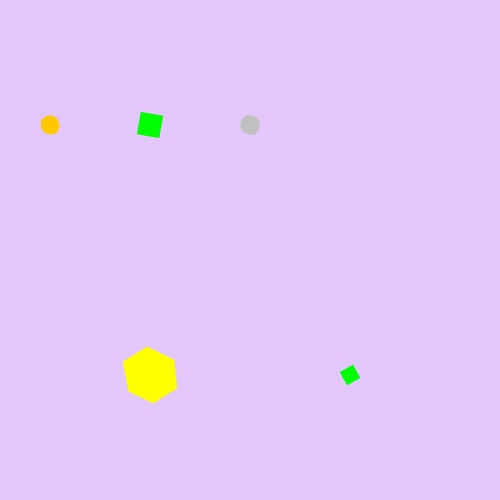decagon: (235, 111, 265, 139)
hexagon: (117, 348, 184, 403)
nonagon: (36, 111, 65, 139)
quadrilateral: (131, 106, 170, 145), (335, 360, 365, 390)
